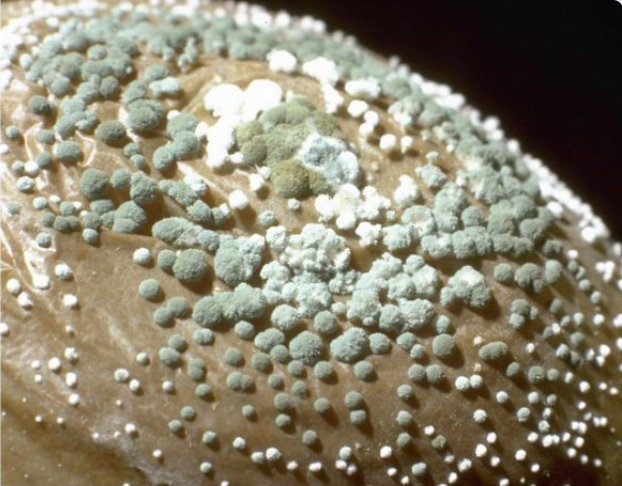Penicillium: (224, 266, 611, 476), (200, 79, 320, 176), (33, 21, 141, 104)
